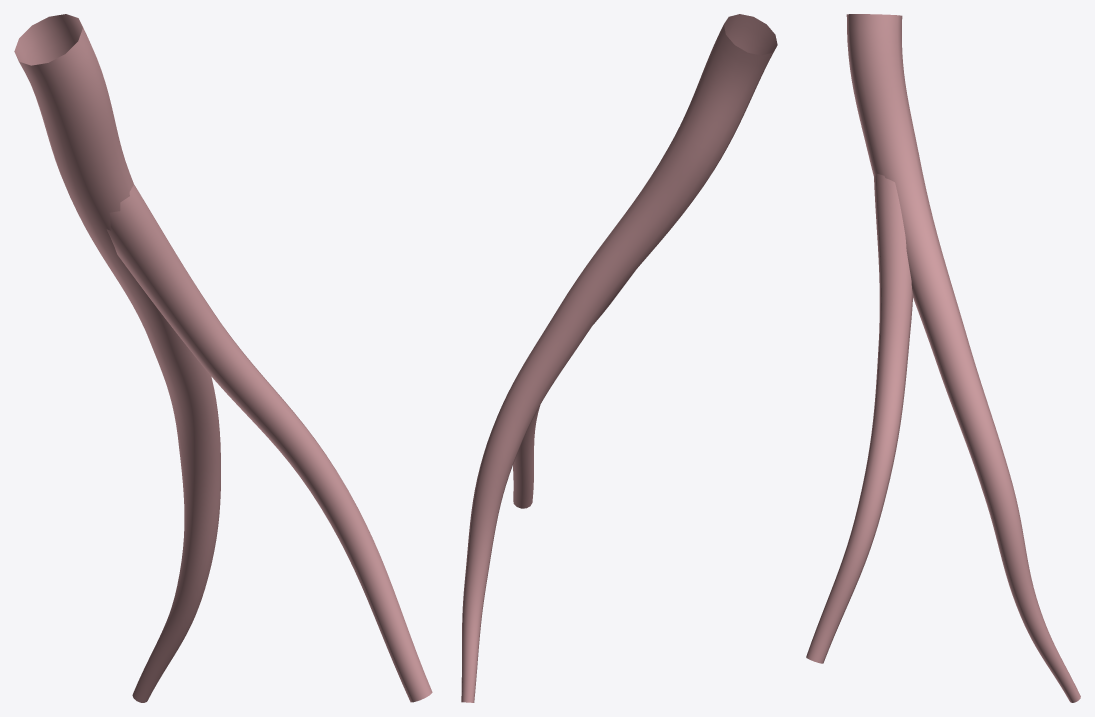
The picture shows the model from 3 angles, left to right: view 1: azimuth 30°, elevation 25°; view 2: azimuth 150°, elevation 25°; view 3: azimuth 270°, elevation 25°; orthographic projection. The views are drawn at different scales.
Visible parts, largest first — view 1: ZA_6d7d5482fae263d3; view 2: ZA_6d7d5482fae263d3; view 3: ZA_6d7d5482fae263d3.
Part boxes in pixels (x1,y1,x2,y2): ZA_6d7d5482fae263d3: (14, 14, 432, 702); ZA_6d7d5482fae263d3: (461, 14, 777, 702); ZA_6d7d5482fae263d3: (806, 14, 1080, 702).
Size of the model in its own units: 0.0515 by 0.11 by 0.0445.
